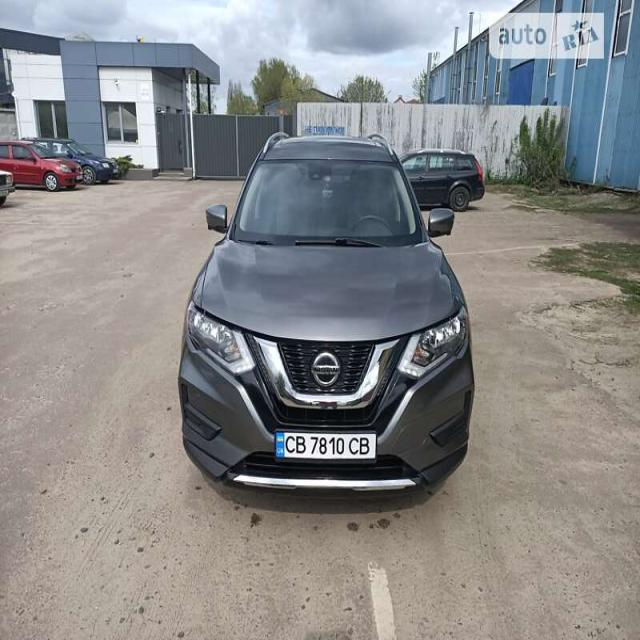plate: (272, 421, 384, 473)
